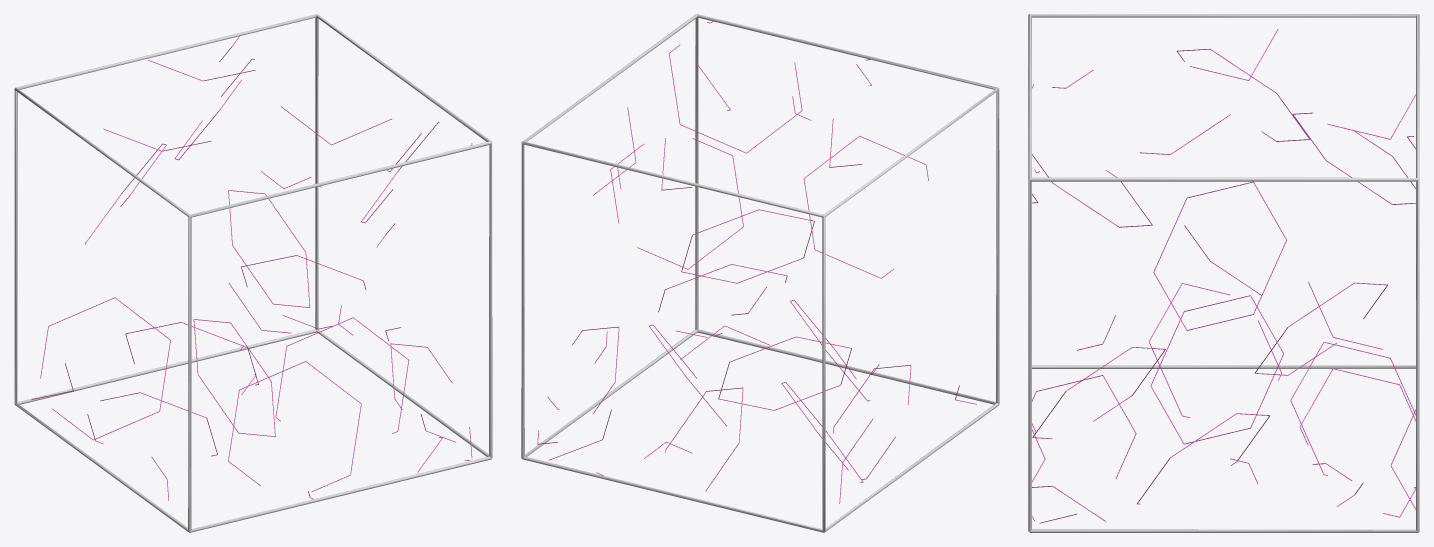
Rendered from DDD000.glb.
3 renders of one model, left to right at view 1: azimuth 30°, elevation 25°; view 2: azimuth 150°, elevation 25°; view 3: azimuth 270°, elevation 25°, orthographic. The views are drawn at different scales.
Visible parts, largest first — view 1: Shape_IndexedLineSet, Shape_IndexedLineSet.001; view 2: Shape_IndexedLineSet, Shape_IndexedLineSet.001; view 3: Shape_IndexedLineSet, Shape_IndexedLineSet.001.
Boxes of the visible parts, box(x1,y1,x2,y2) form: Shape_IndexedLineSet: box(14, 14, 492, 532); Shape_IndexedLineSet.001: box(31, 36, 472, 500); Shape_IndexedLineSet: box(521, 14, 999, 532); Shape_IndexedLineSet.001: box(537, 21, 976, 503); Shape_IndexedLineSet: box(1028, 14, 1419, 532); Shape_IndexedLineSet.001: box(1032, 29, 1415, 523).
Size of the model in its own units: 10.1 by 10.1 by 10.1.
